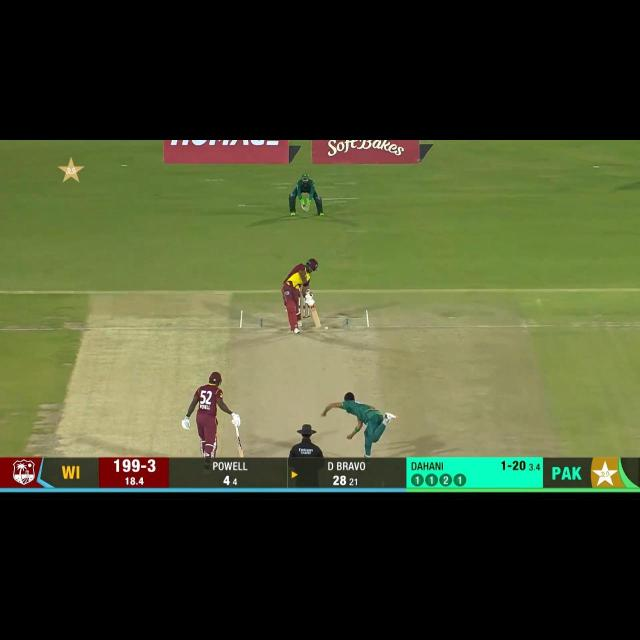bat: (310, 306, 321, 330), (237, 437, 244, 457)
toe: (314, 320, 322, 330)
